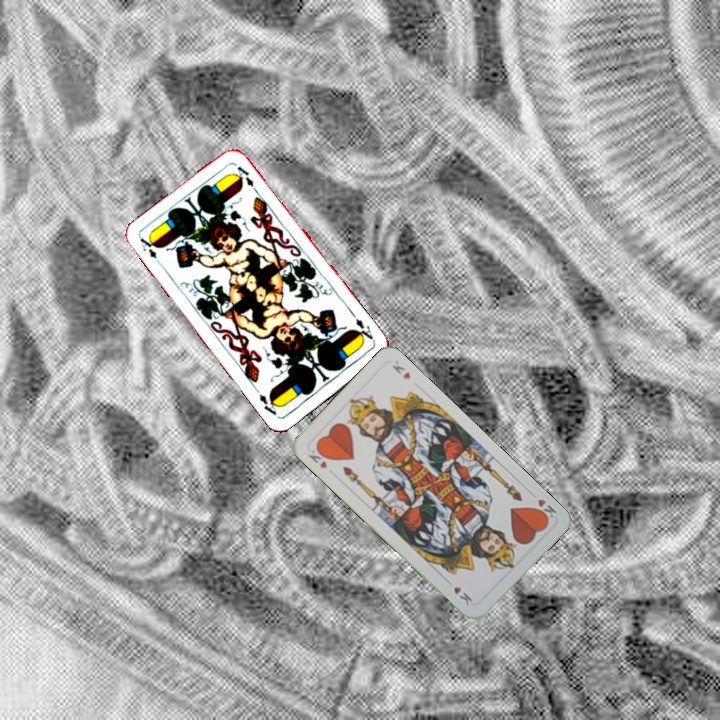EA: (135, 233, 165, 269), (350, 314, 377, 344)
HK: (526, 488, 559, 523), (304, 443, 332, 471)
